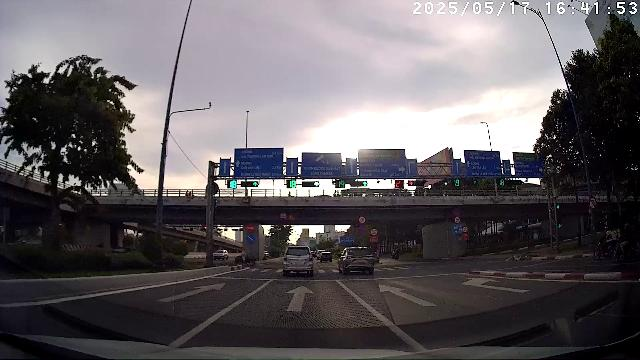123a-cam-re-trai: (588, 196, 598, 210)
127-toc-do-toi-da-50: (455, 217, 461, 223)
127-toc-do-toi-da-60: (358, 216, 366, 224)
